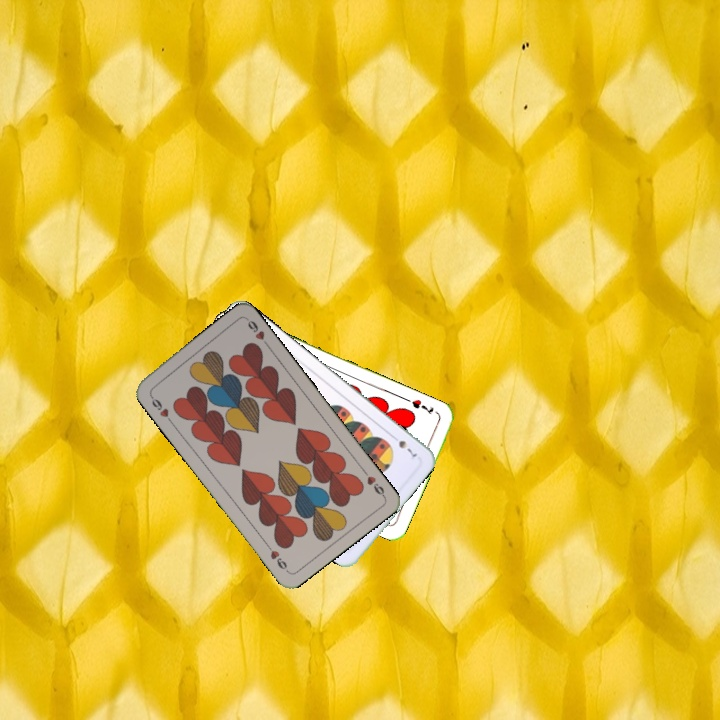H7: (408, 395, 436, 416)
H9: (358, 465, 387, 500), (146, 390, 175, 425)
S7: (387, 431, 419, 460)
